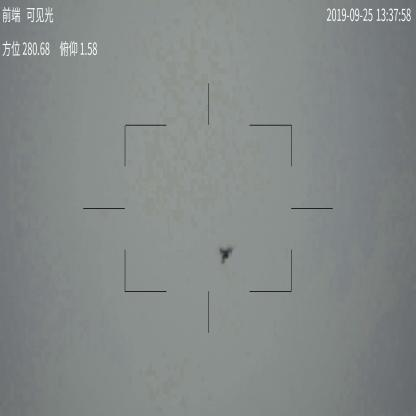uav: (218, 241, 235, 263)
